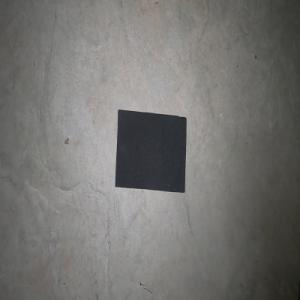PaintChip: (115, 109, 186, 193)
